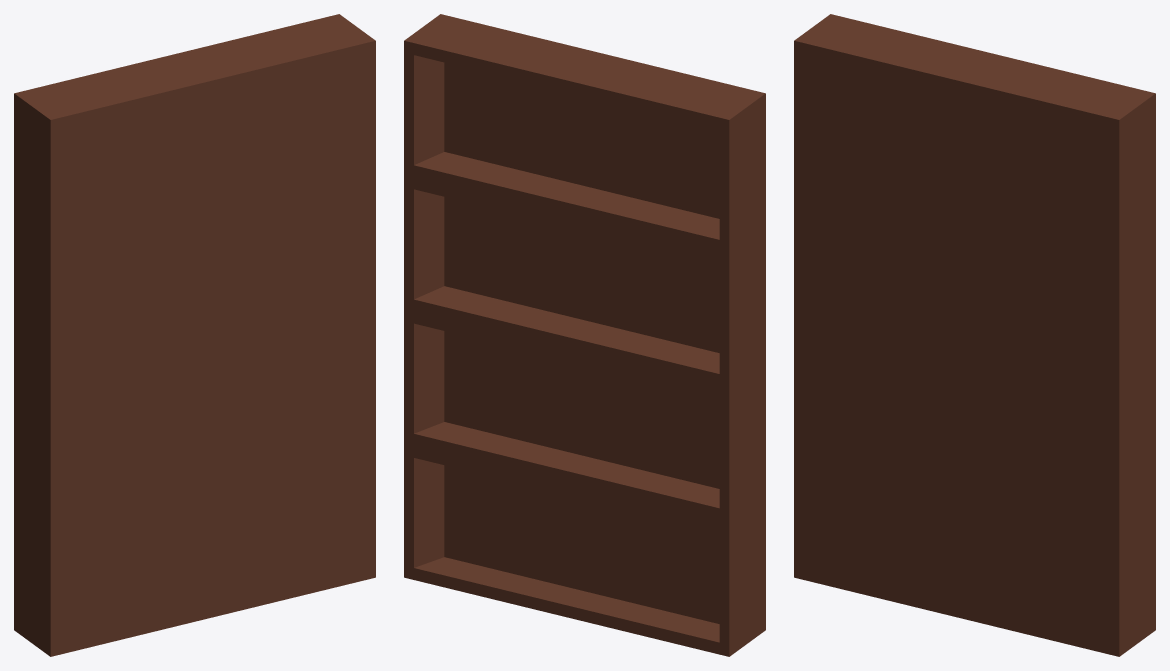
The model's file is library.glb.
The picture shows the model from 3 angles, left to right: view 1: azimuth 30°, elevation 25°; view 2: azimuth 150°, elevation 25°; view 3: azimuth 330°, elevation 25°; orthographic projection.
Visible parts, largest first — view 1: biblioteca; view 2: biblioteca; view 3: biblioteca.
Boxes of the visible parts, left/top/right/bottom form: biblioteca: left=14, top=14, right=375, bottom=656; biblioteca: left=404, top=14, right=765, bottom=656; biblioteca: left=794, top=14, right=1155, bottom=656.
Size of what is drawn, in the model's own units: 2 by 3.16 by 0.3886.
Materials: 1 (1 with a texture image).
